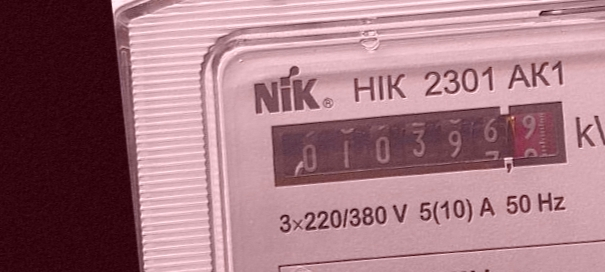0: (371, 131, 397, 167), (299, 139, 322, 174)
1: (339, 136, 356, 170)
3: (410, 126, 431, 160)
6: (480, 114, 504, 145)
9: (444, 126, 467, 161), (518, 111, 542, 143)
screen: (255, 81, 582, 208)
